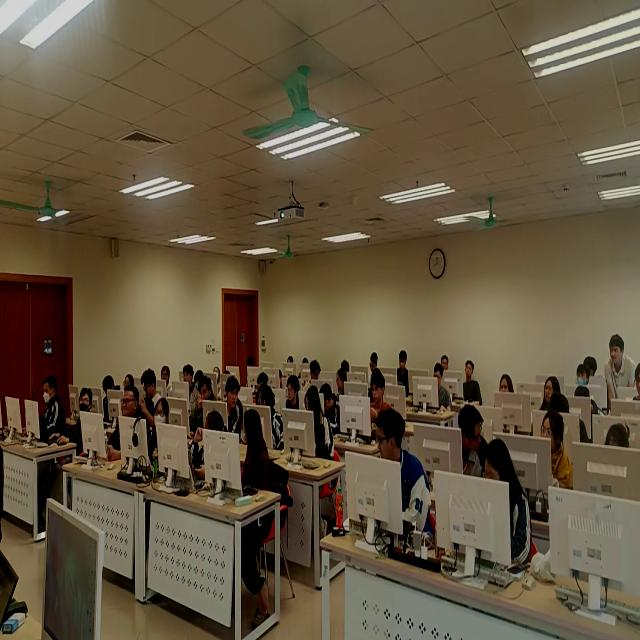raise_head: (109, 387, 151, 460), (59, 387, 95, 446), (190, 377, 218, 434), (148, 397, 171, 464), (463, 356, 484, 409), (538, 374, 560, 412), (190, 372, 205, 411), (499, 373, 518, 398), (181, 362, 194, 397), (575, 366, 592, 390), (161, 365, 173, 398), (633, 360, 640, 407), (213, 366, 222, 400), (124, 373, 136, 393), (441, 355, 451, 371)
sleep: (277, 368, 290, 388)
stand: (604, 330, 636, 406)
using_computer: (481, 437, 534, 570), (304, 384, 337, 461), (549, 395, 593, 444), (366, 372, 393, 445), (42, 376, 69, 434), (319, 383, 344, 439), (138, 366, 160, 424), (573, 383, 607, 417), (433, 362, 453, 416), (103, 375, 120, 424), (604, 427, 636, 452), (398, 348, 411, 395), (286, 376, 301, 411), (368, 352, 380, 389), (245, 355, 256, 387), (255, 372, 270, 391), (341, 359, 352, 375), (286, 353, 296, 367), (224, 368, 232, 378), (303, 356, 309, 366)
